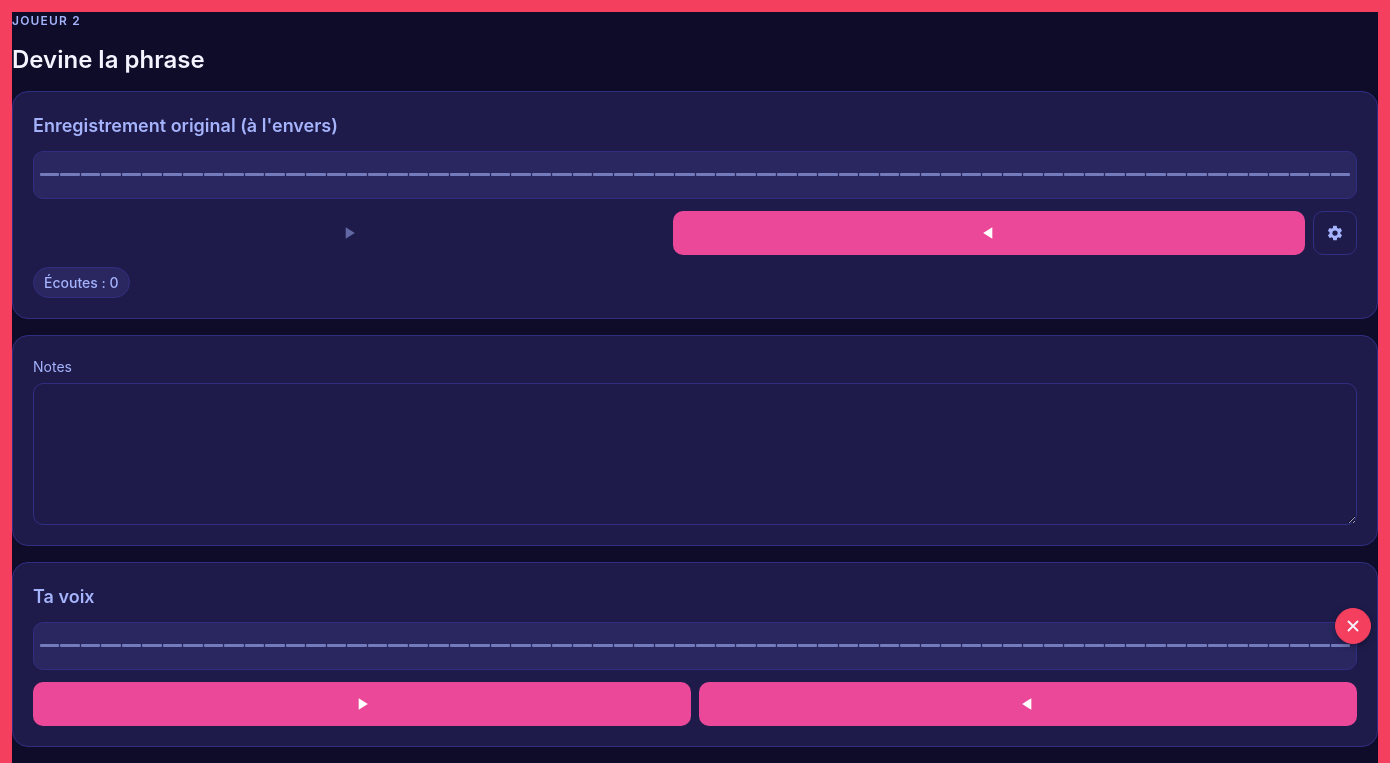
<GuessingPhase /> › clicking the × on the guess preview clears guessRecording and shows the recorder again
The image size is (1390, 763).
Click the button named "fermer".
click(1353, 626)  # box [1335,608,1371,644]
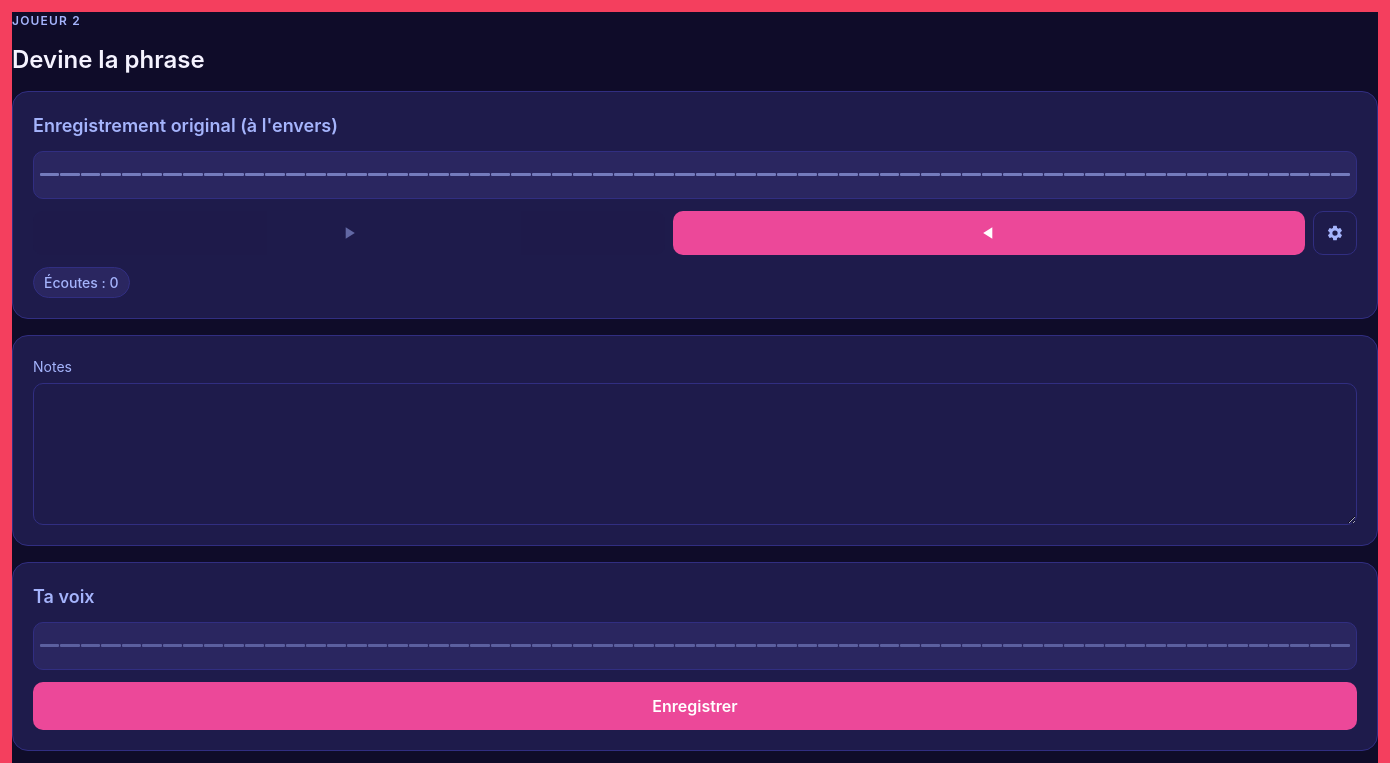
Now the button "Enregistrer" is shown, box [33,682,1357,730]
